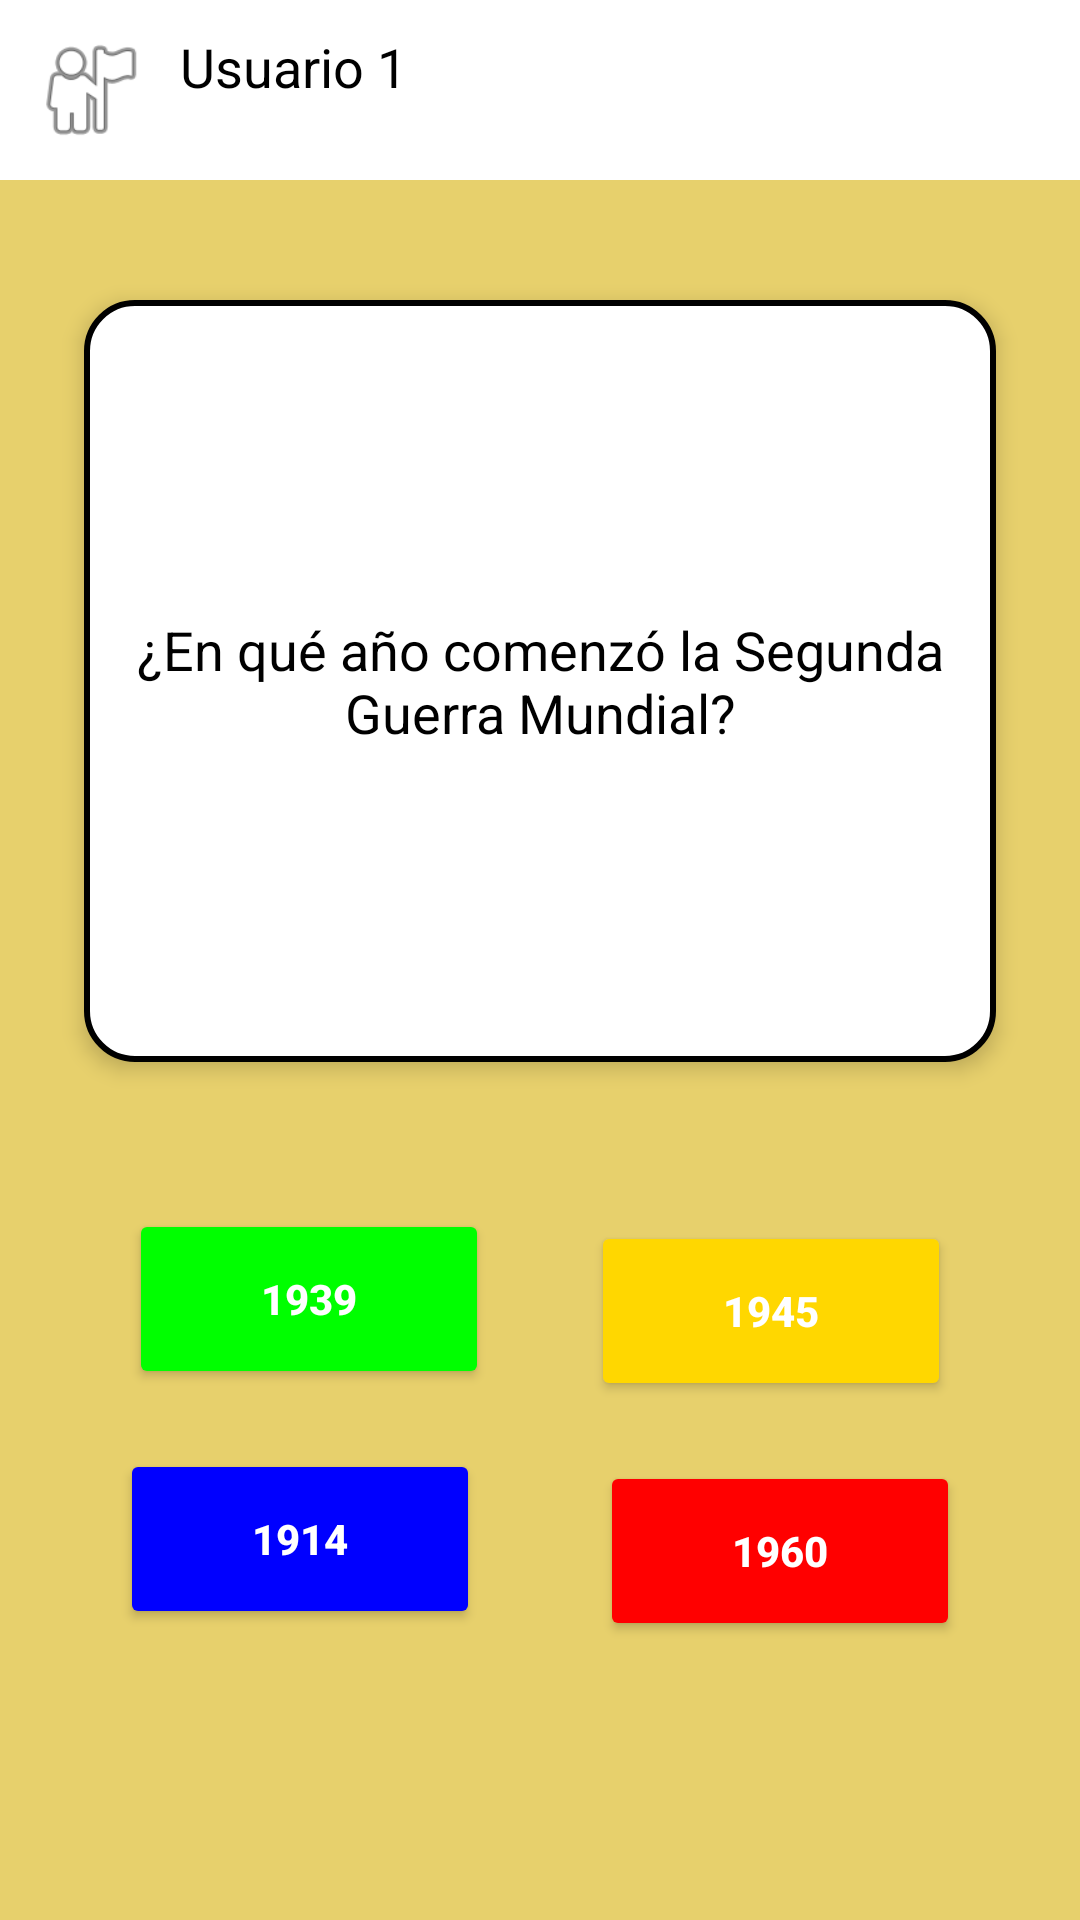

Icons on this 1080 x 1920 Android screen, each with the point to tap as point (x, y):
Ícono de usuario: point (91, 90)
